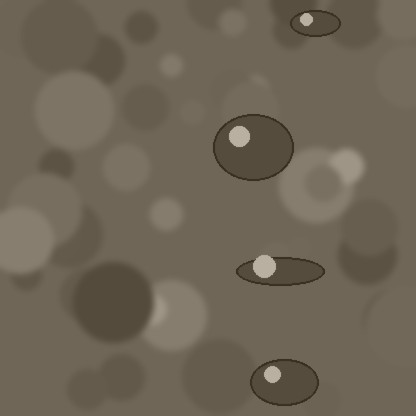gota: (213, 116, 293, 186), (250, 361, 318, 409), (236, 258, 324, 288), (290, 11, 340, 39)
